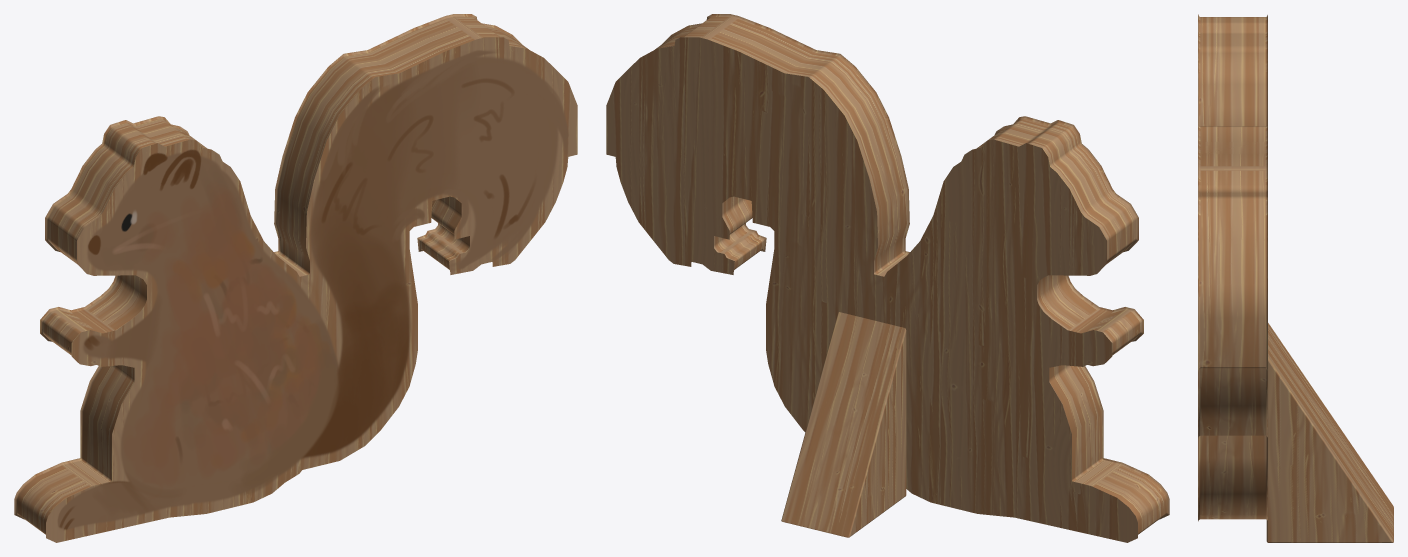
The model's file is squirrel_frame_0.glb.
3 views of the same model, side by side, from view 1: azimuth 30°, elevation 25°; view 2: azimuth 150°, elevation 25°; view 3: azimuth 270°, elevation 25° (orthographic). The views are drawn at different scales.
Visible parts, largest first — view 1: squirrel_frame_0_Block; view 2: squirrel_frame_0_Block, squirrel_frame_0_RearBrace; view 3: squirrel_frame_0_Block, squirrel_frame_0_RearBrace.
Part boxes in pixels (x1=…): squirrel_frame_0_Block: x1=14, y1=14, x2=577, y2=542; squirrel_frame_0_Block: x1=606, y1=14, x2=1169, y2=542; squirrel_frame_0_RearBrace: x1=781, y1=312, x2=906, y2=537; squirrel_frame_0_Block: x1=1198, y1=14, x2=1267, y2=521; squirrel_frame_0_RearBrace: x1=1266, y1=323, x2=1393, y2=542.
Size of the model in its own units: 1.55 by 1.14 by 0.4479.
Materials: 1 (1 with a texture image).
